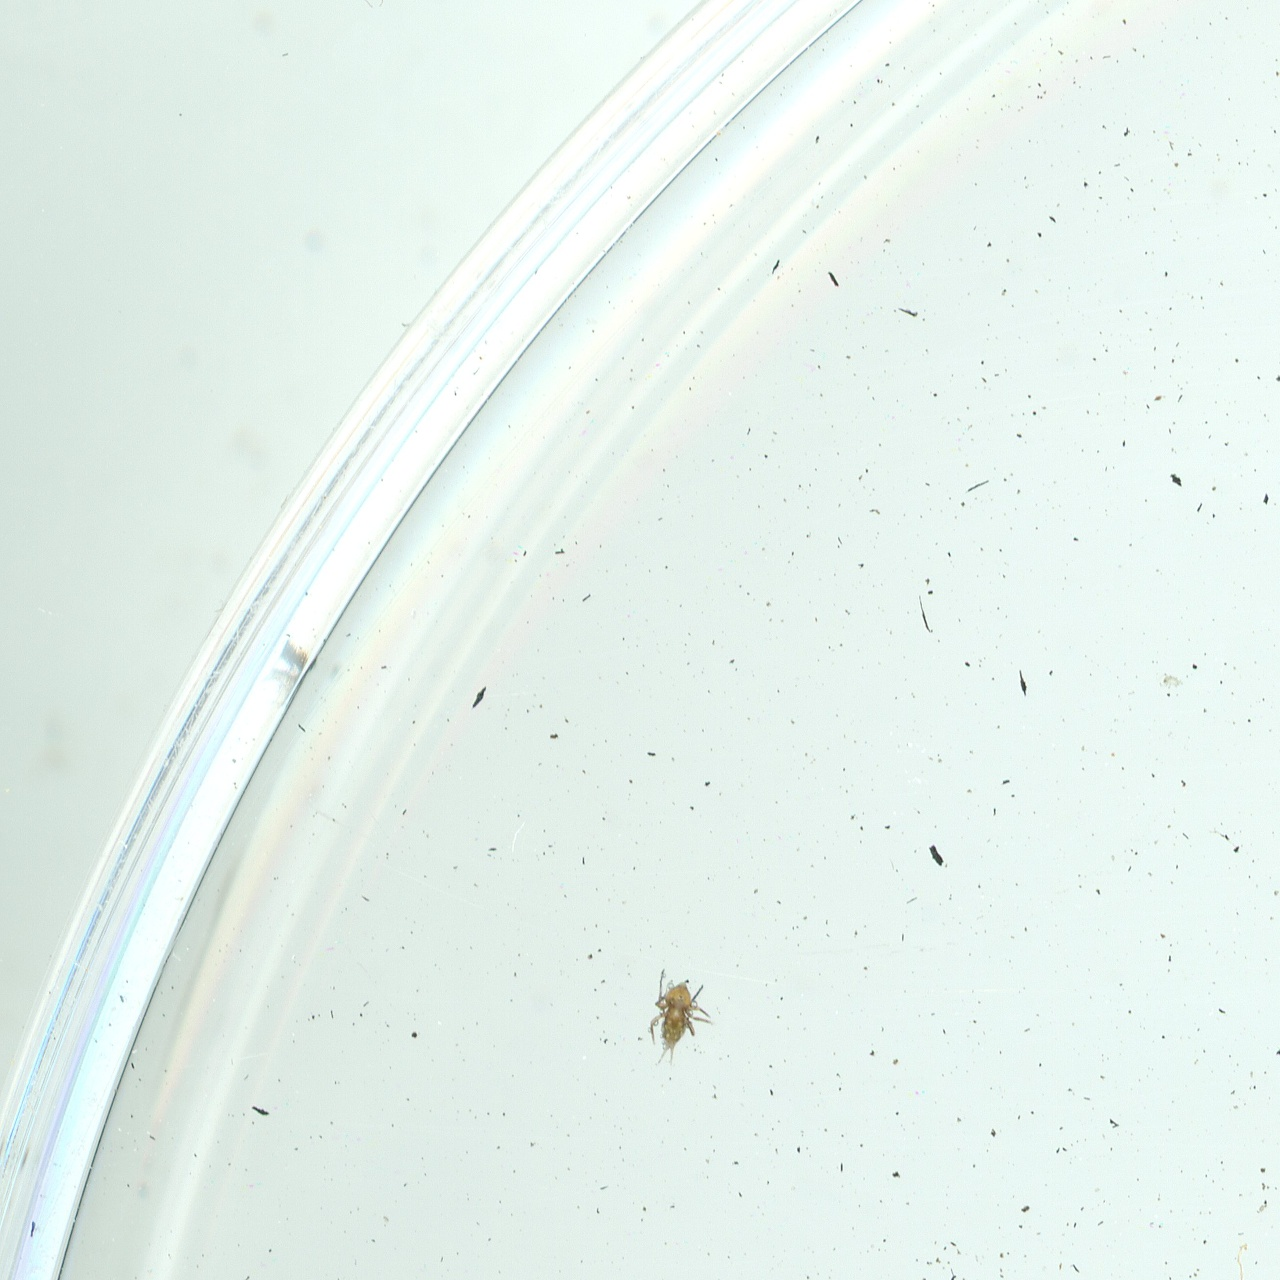arthropod: (640, 965, 719, 1073)
